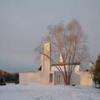chimneys: (60, 54, 65, 63)
